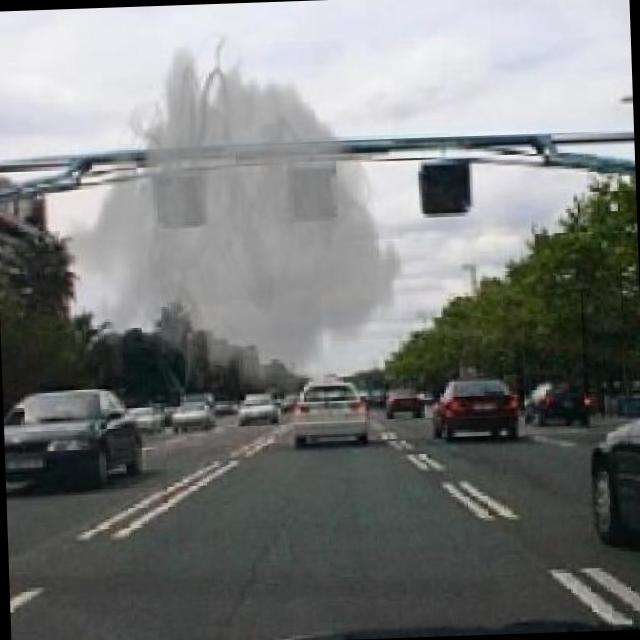Smoke: (64, 31, 419, 383)
